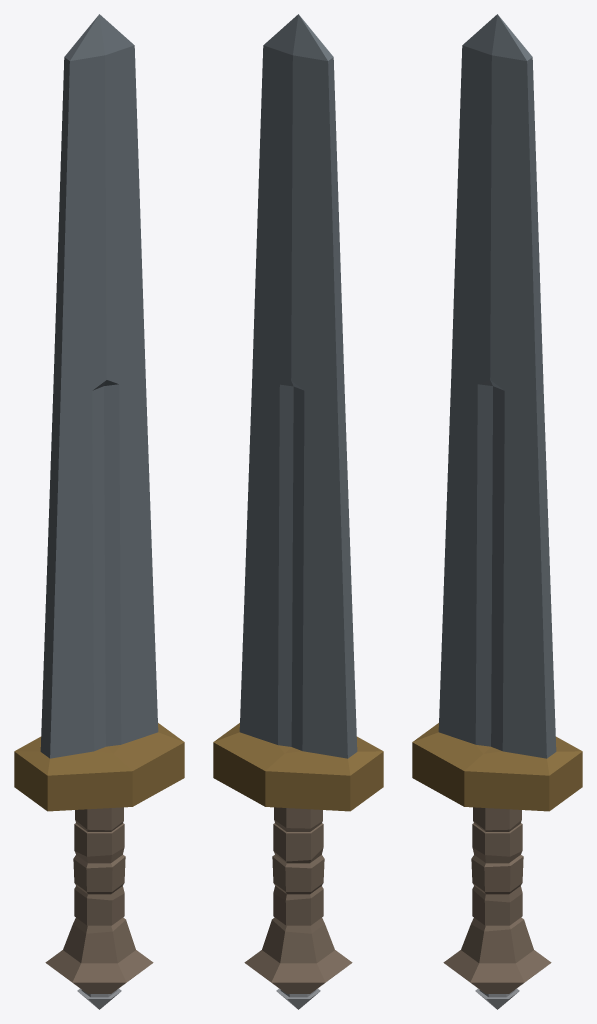
File: BroadSword_Stylized.glb
3 views of the same model, side by side, from view 1: azimuth 30°, elevation 25°; view 2: azimuth 150°, elevation 25°; view 3: azimuth 330°, elevation 25° (orthographic).
Parts seen in each view (by area): view 1: BroadSwordStylized; view 2: BroadSwordStylized; view 3: BroadSwordStylized.
Boxes of the visible parts, left/top/right/bottom form: BroadSwordStylized: left=14, top=14, right=184, bottom=1009; BroadSwordStylized: left=213, top=14, right=383, bottom=1009; BroadSwordStylized: left=412, top=14, right=582, bottom=1009.
Size of the model in its own units: 4833 by 33524 by 4060.
1 material, 1 textured.
